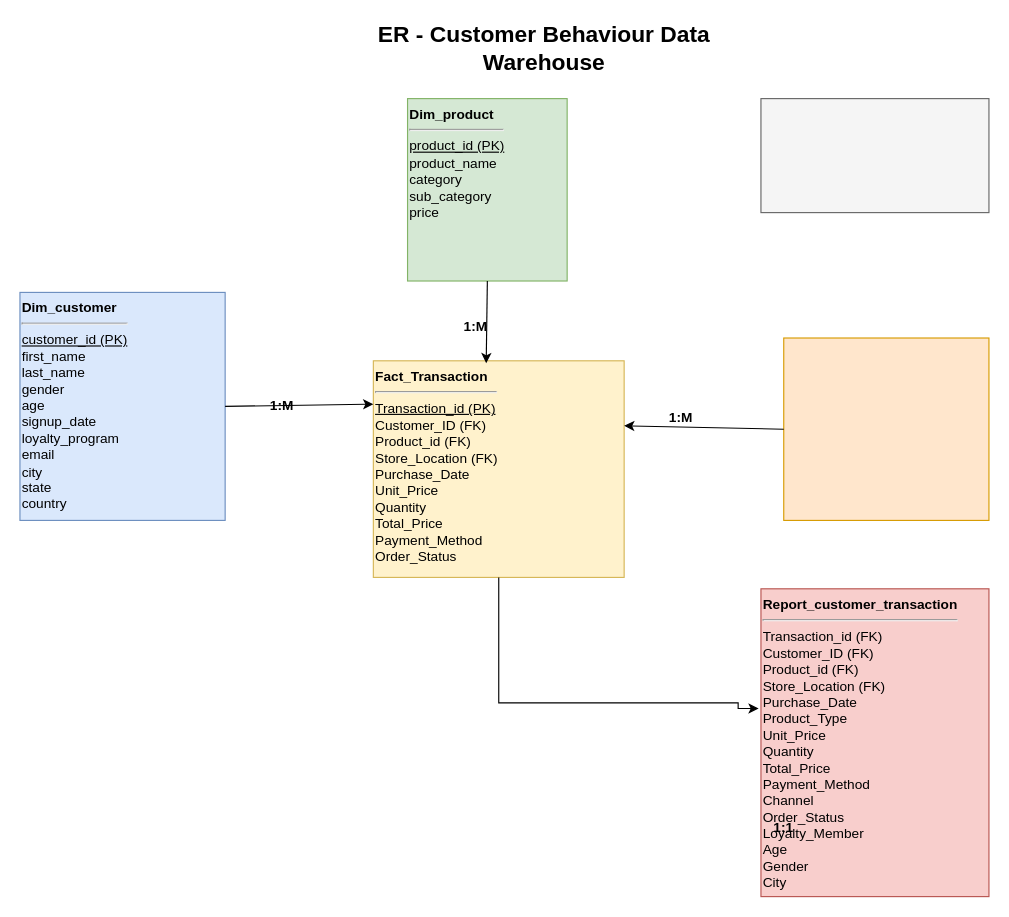
Image size: 1009x917. Some labels were removed from this diagram. The box of each missing label's shape, as (x1, y1, x2, y2) in pixels:
dim_store store_id (PK) store_type store_location region: (783, 337, 989, 520)
Legend: PK = Primary Key FK = Foreign Key 1:M = One to Many 1:1 = One to One: (760, 97, 989, 213)
